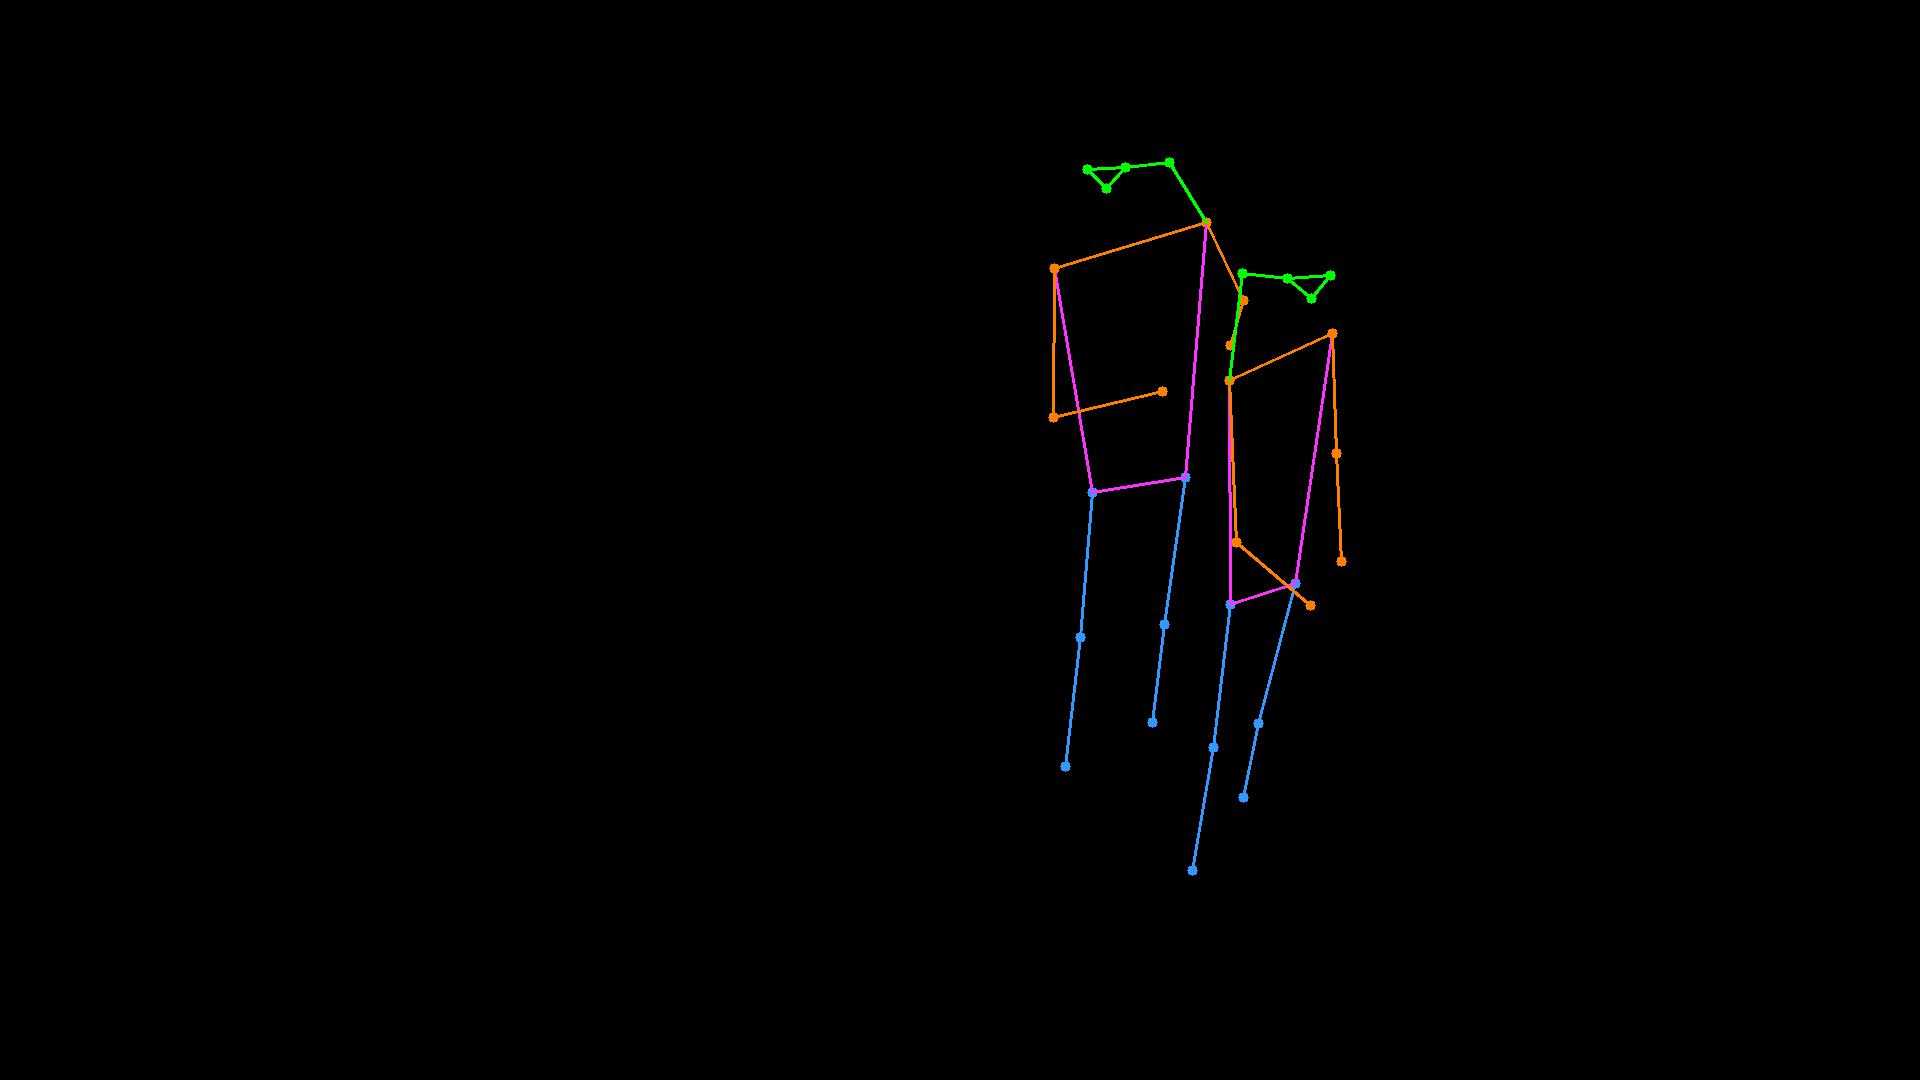normal: (981, 138, 1431, 909)
